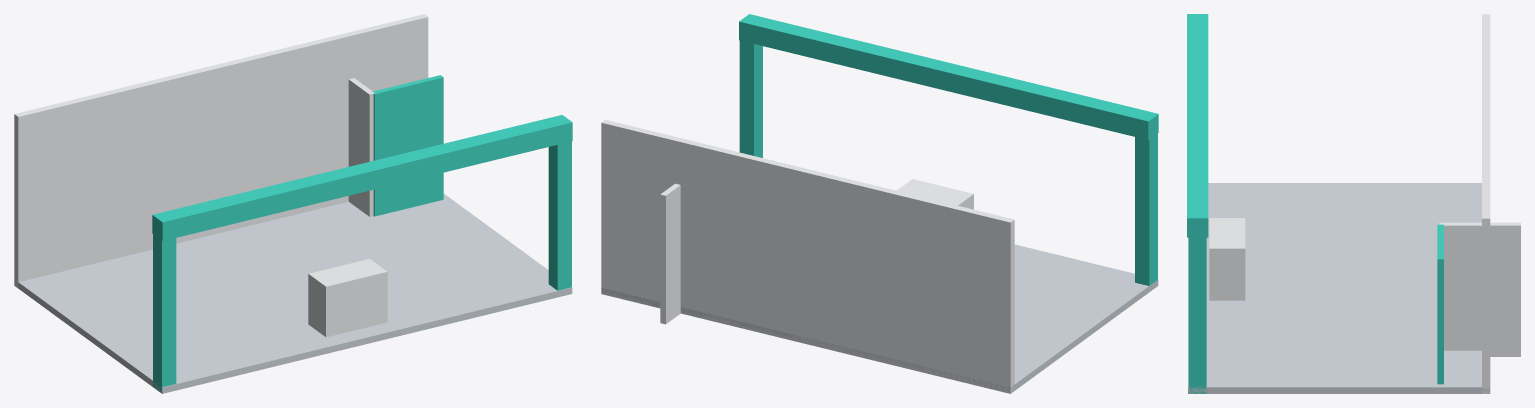
The picture shows the model from 3 angles, left to right: view 1: azimuth 30°, elevation 25°; view 2: azimuth 150°, elevation 25°; view 3: azimuth 270°, elevation 25°; orthographic projection. The views are drawn at different scales.
Parts seen in each view (by area): view 1: Exhibition Booth Concept; view 2: Exhibition Booth Concept; view 3: Exhibition Booth Concept.
Boxes of the visible parts, bbox=[...] form: Exhibition Booth Concept: bbox=[14, 14, 572, 393]; Exhibition Booth Concept: bbox=[601, 14, 1158, 393]; Exhibition Booth Concept: bbox=[1187, 14, 1520, 393].
Size of the model in its own units: 8 by 3.2 by 5.52.
